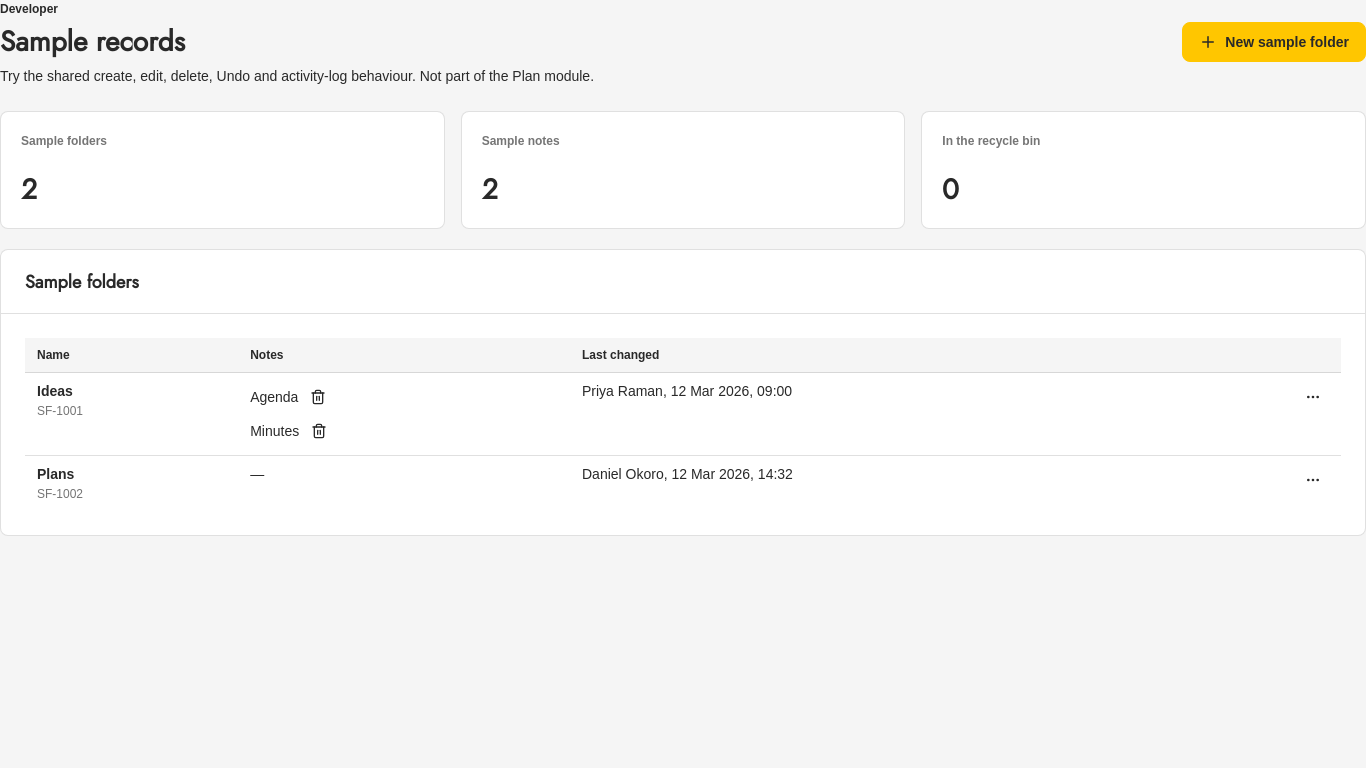
Scenario: SampleRecordsPage: notes › shows the API’s problem with a note title at the field (FR-020)
Check: the element "Sample folders" is shown, box [0,249,1365,536]
Click the button named "Actions for Ideas": (1313, 397) [1297,381,1329,413]
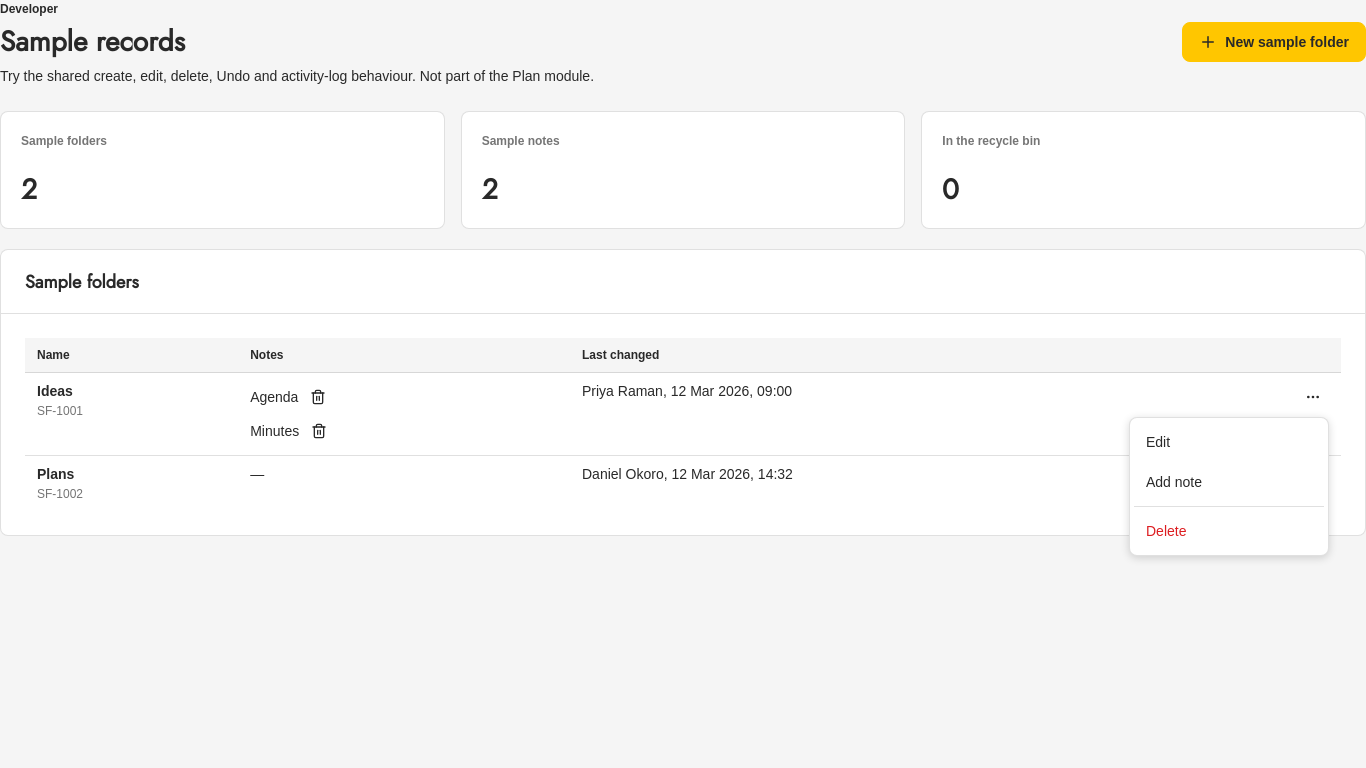
Click the menu item "Add note": (1174, 482) [1146,474,1202,490]
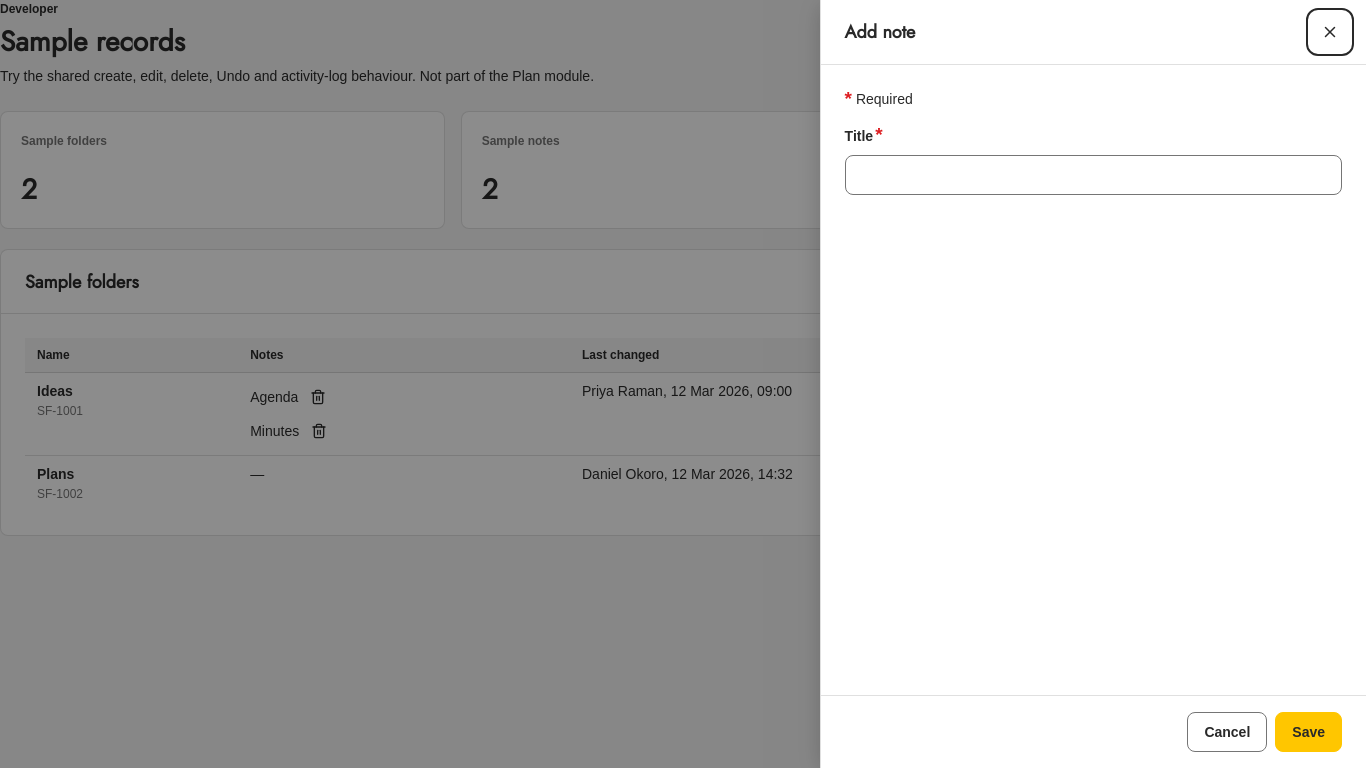
Click the button "Save": (1309, 732) [1275,712,1342,752]
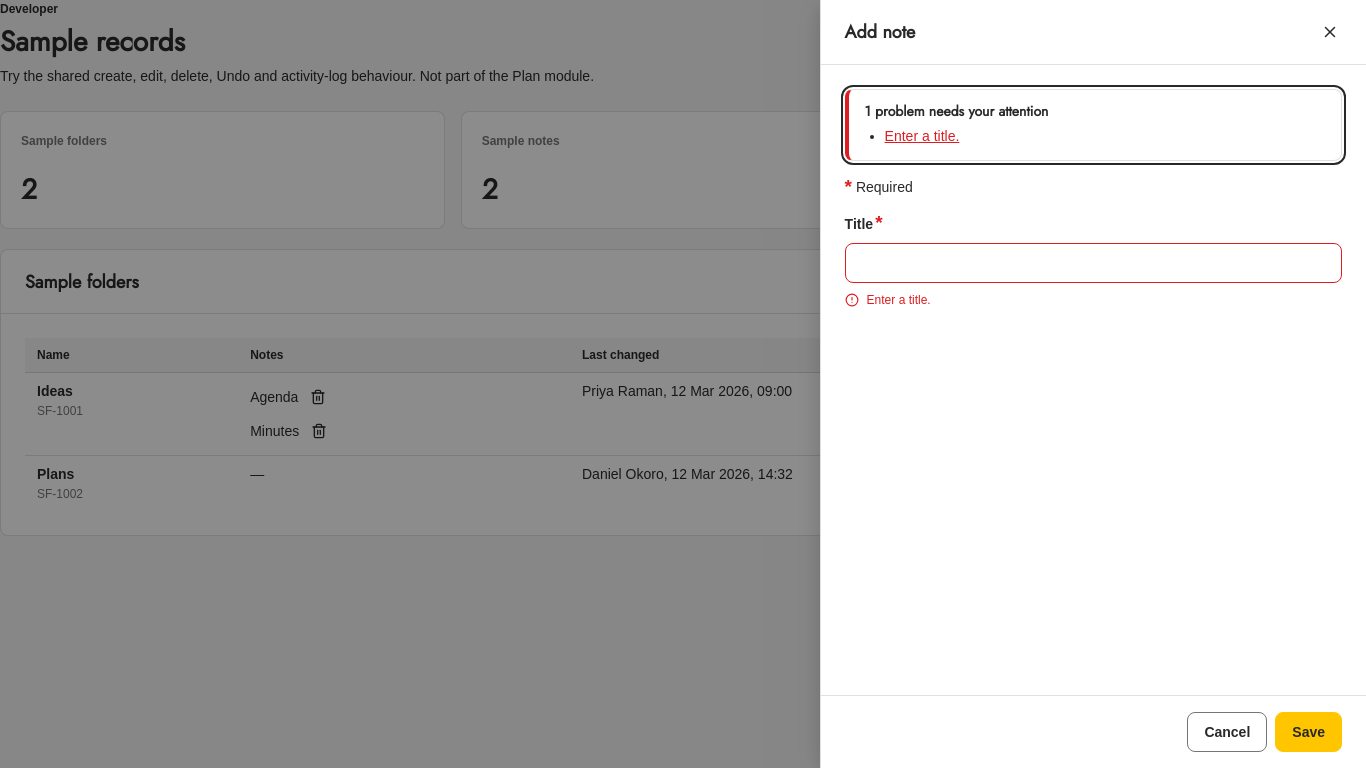
Check: the message shows "Enter a title.", box [885,124,959,148]
